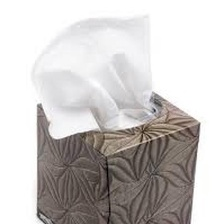tissue: (26, 6, 162, 144)
